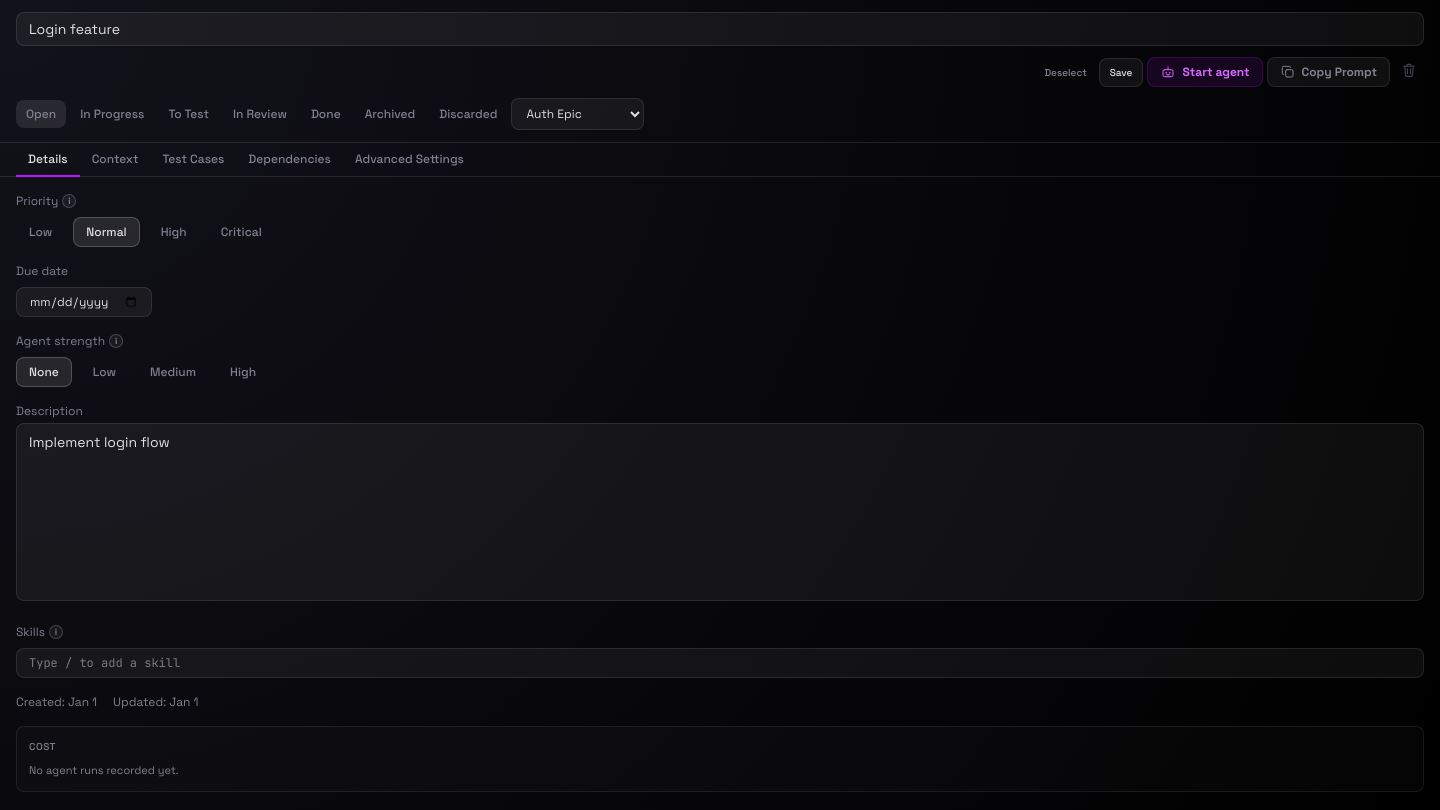
Test: TicketEditPanel › shows Propose Dependencies button in dependencies tab
The width and height of the screenshot is (1440, 810).
Click the tab "Dependencies" at (290, 160), box [236,143,343,177]
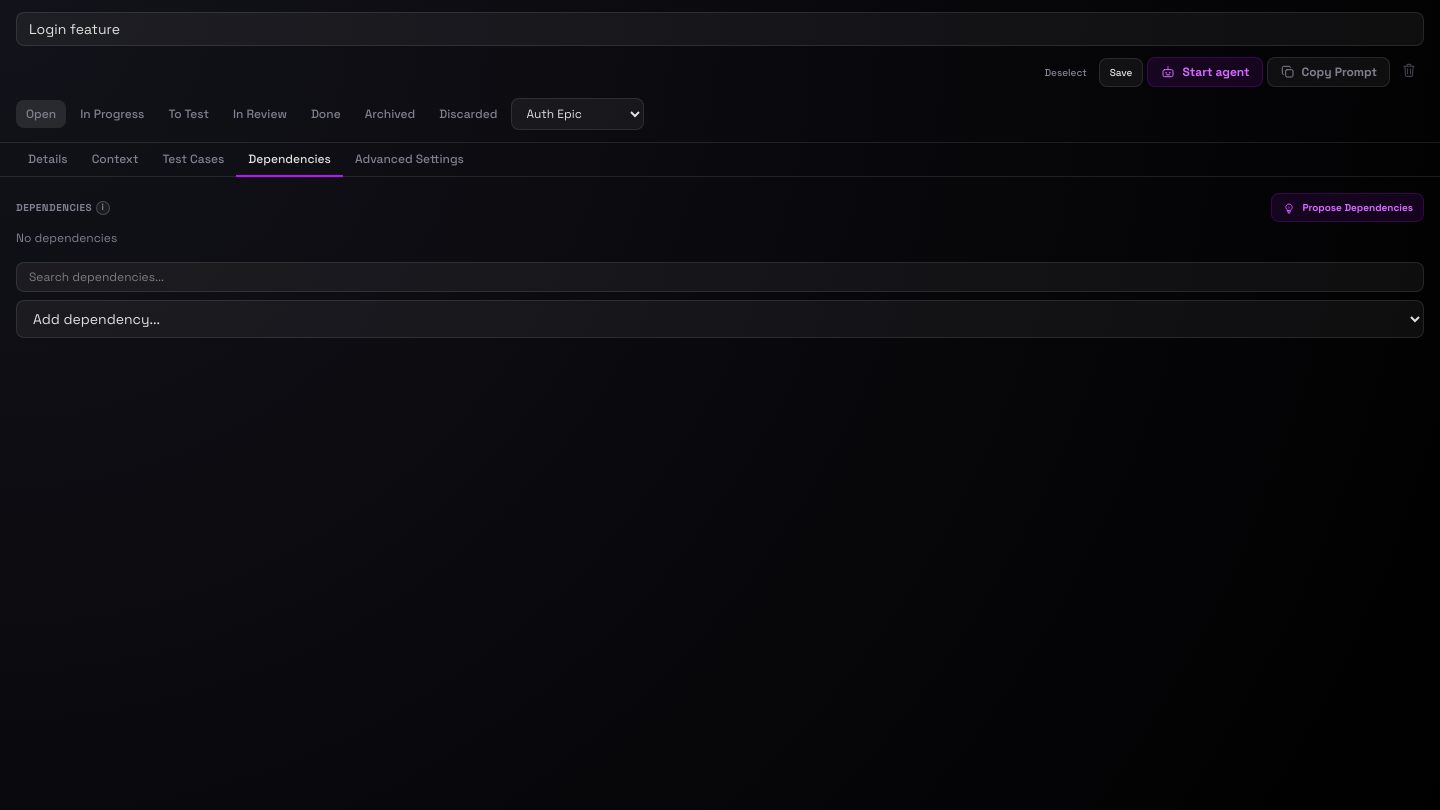
Now the button "Propose Dependencies" is shown, box [1271,193,1424,222]
